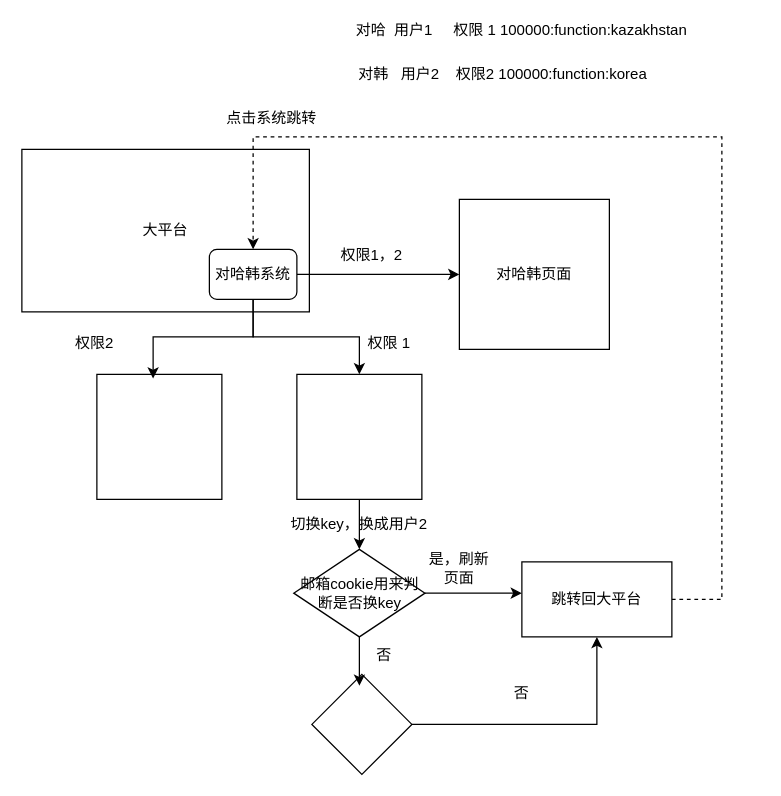
Some shapes in this 781 by 796 pixel diagram are drawn without their labels. Here are the shapes that lost their labels. From the top down, the centre of each, then its label:
At (159,436): "对韩页面".
At (359,436): "对哈页面".
At (361,723): "判断是否有权限".
